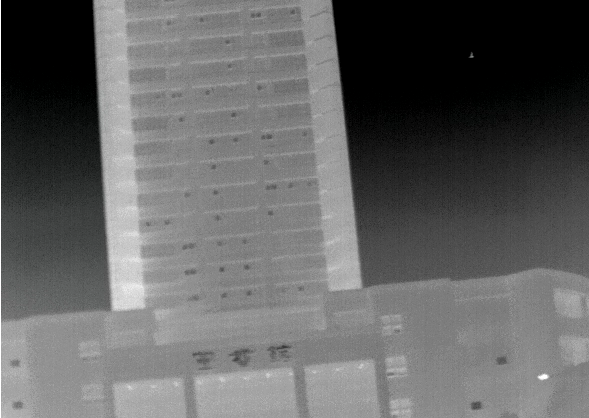dim target: (468, 53, 476, 58)
